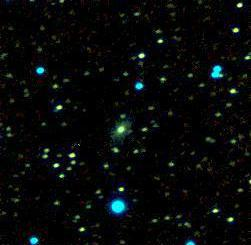star: (206, 62, 236, 92)
